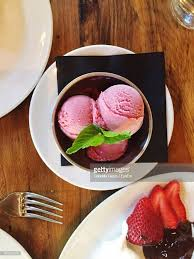ice-cream: (99, 84, 143, 137), (60, 95, 98, 140)
